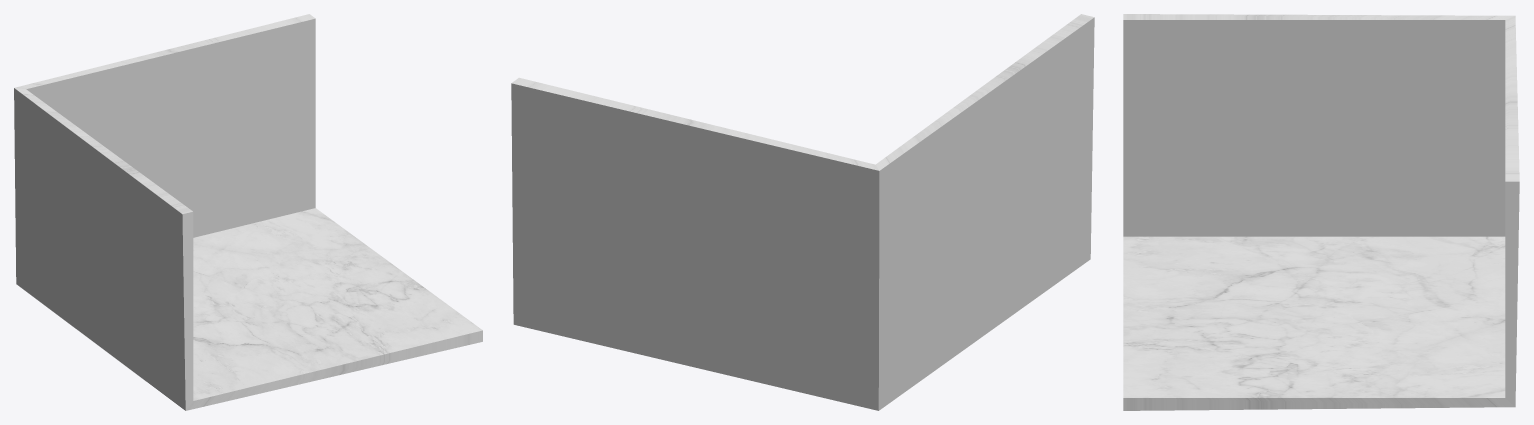
Rendered from room2.glb.
3 views of the same model, side by side, from view 1: azimuth 30°, elevation 25°; view 2: azimuth 150°, elevation 25°; view 3: azimuth 270°, elevation 25° (orthographic). The views are drawn at different scales.
Parts seen in each view (by area): view 1: Room; view 2: Room; view 3: Room.
Part boxes in pixels (<box>): Room: <box>14,14,482,410</box>; Room: <box>511,14,1094,410</box>; Room: <box>1123,14,1519,410</box>.
Bounding box in the file's own units: 8.3 × 5.3 × 8.3.
Materials: 2 (1 with a texture image).
